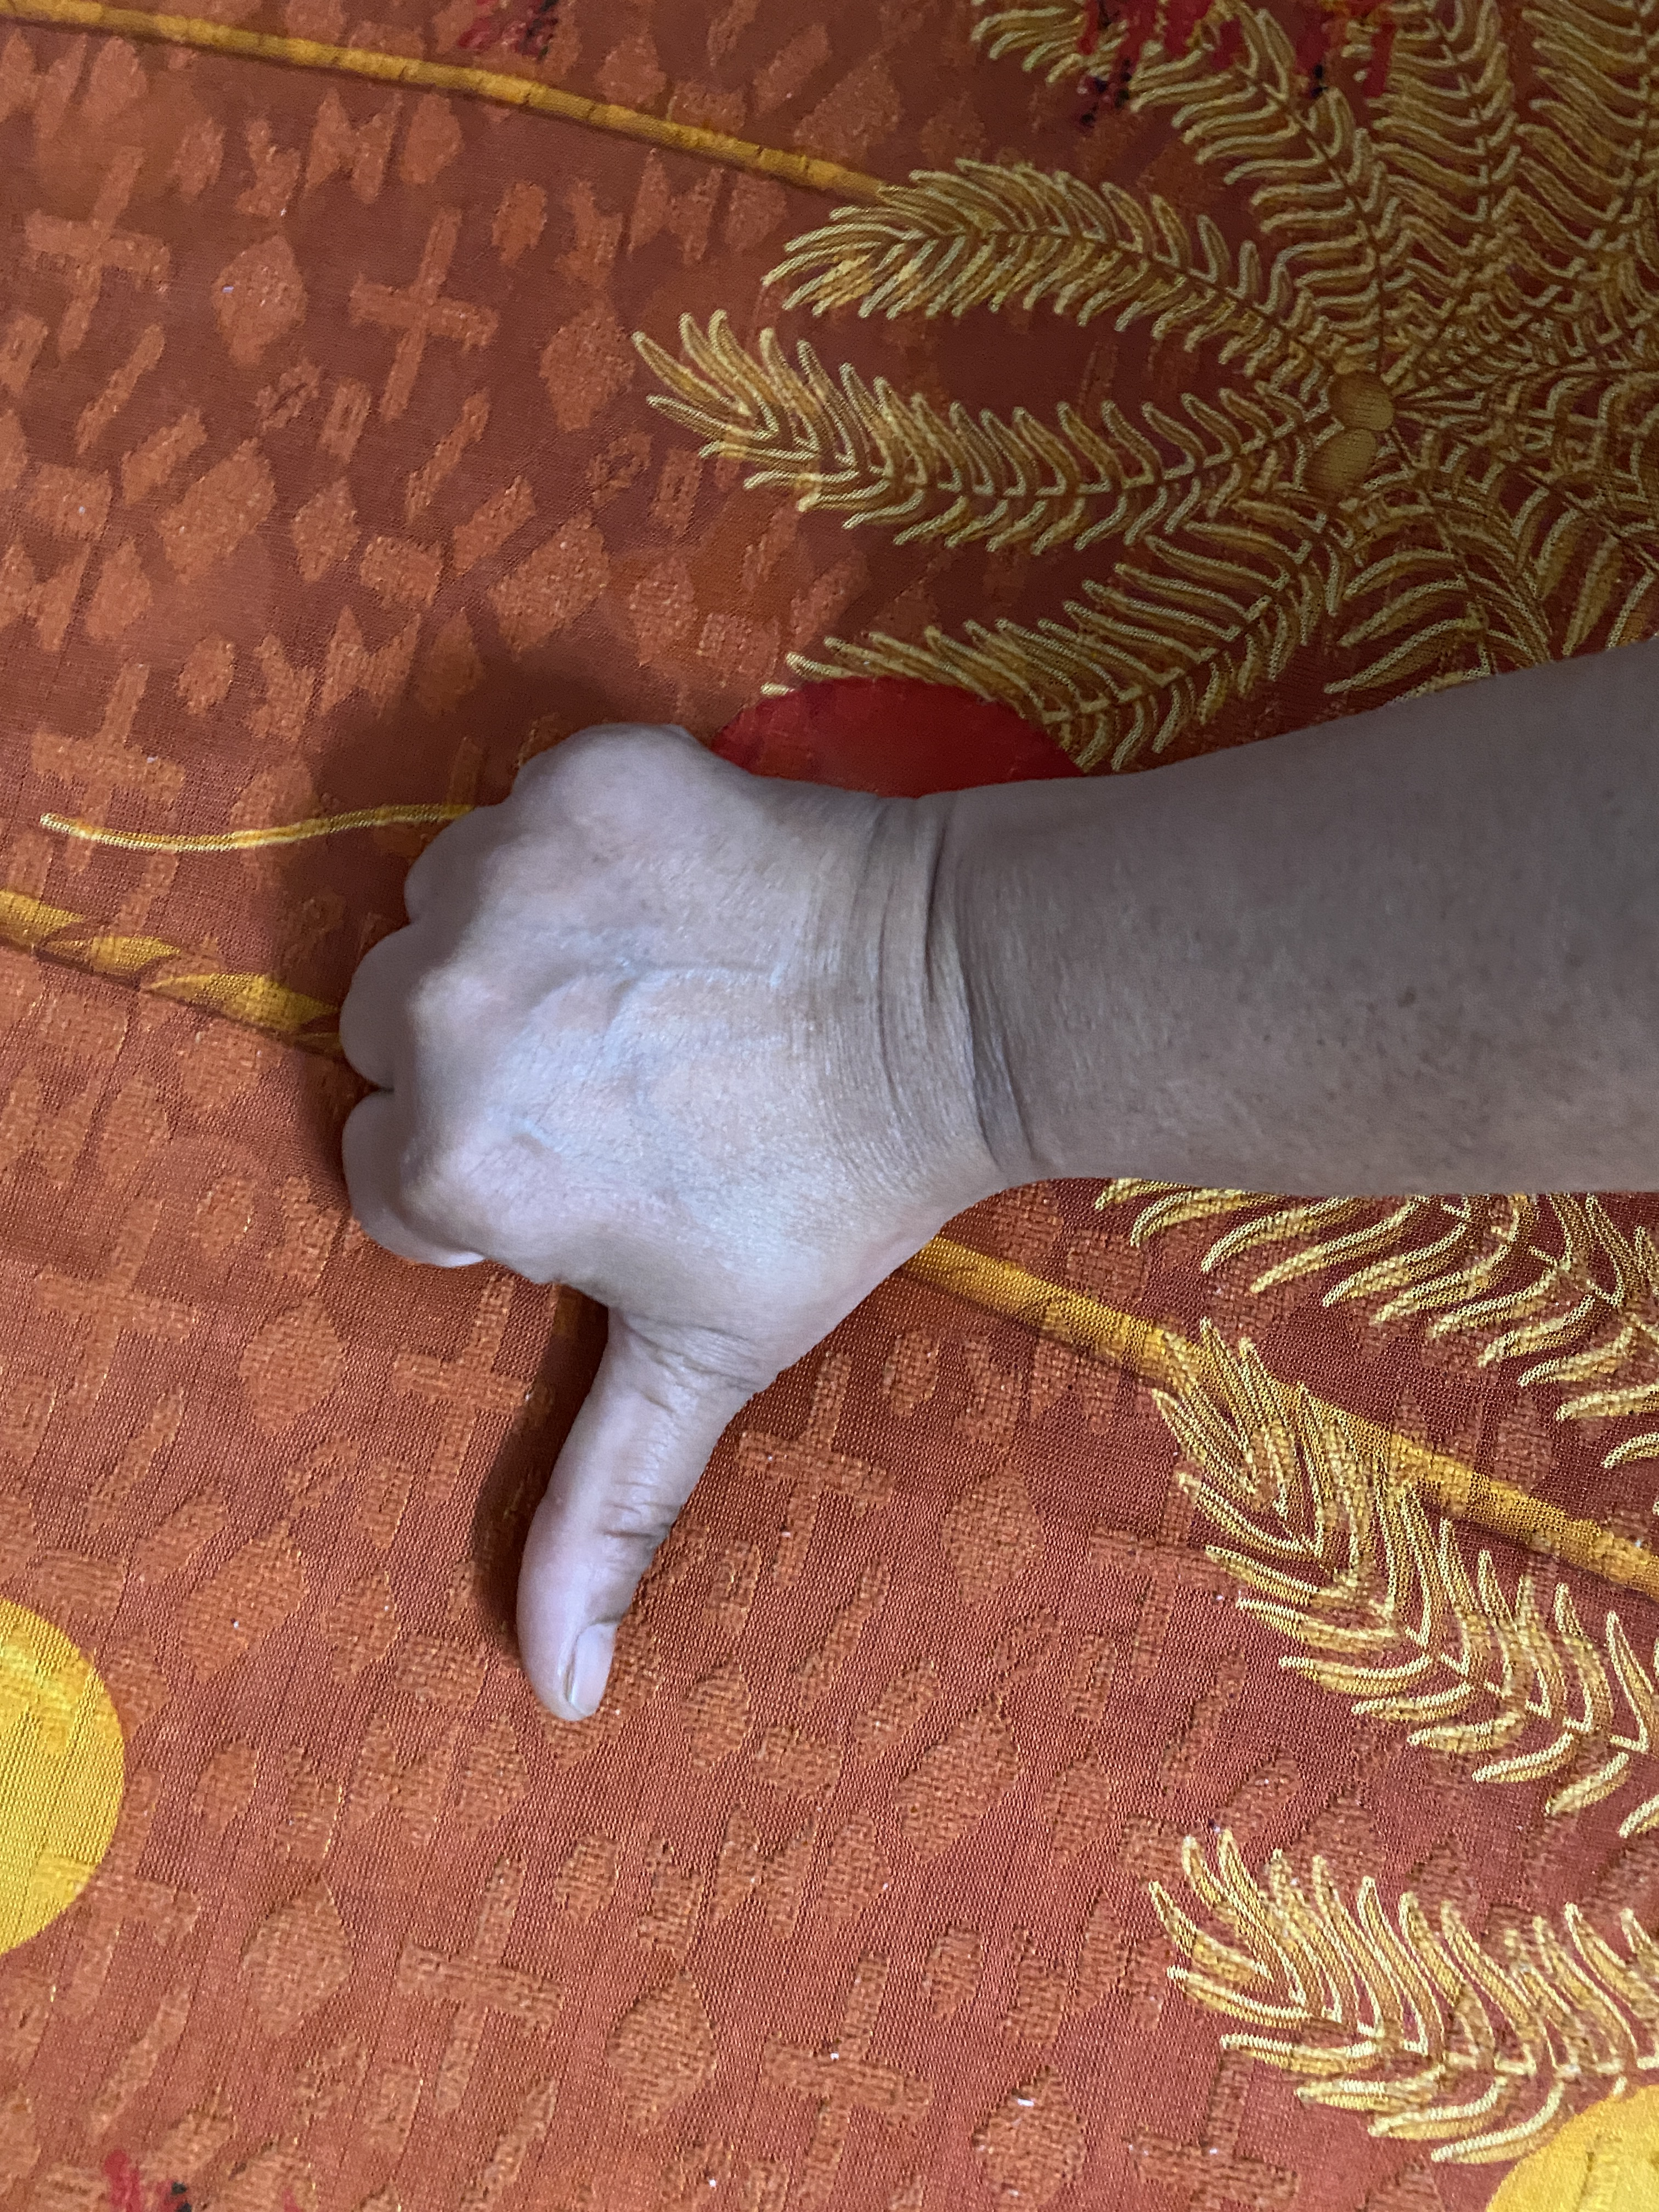down: (159, 521, 1659, 1862)
